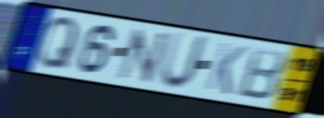6: (77, 22, 116, 76)
B: (235, 45, 290, 103)
K: (202, 41, 249, 98)
N: (116, 27, 171, 86)
Q: (36, 16, 81, 72)
U: (157, 29, 211, 92)
